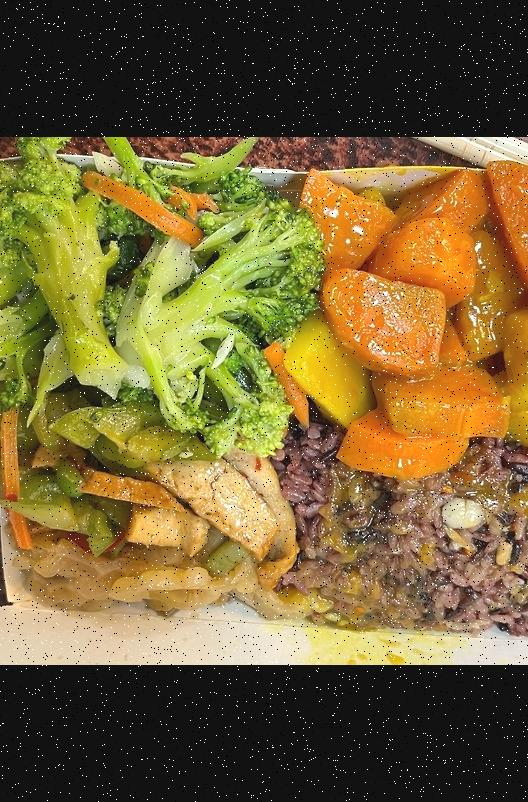box: (0, 157, 528, 657)
purple rice: (279, 420, 528, 634)
side dish: (0, 169, 322, 442), (296, 172, 528, 472), (10, 443, 295, 626)
